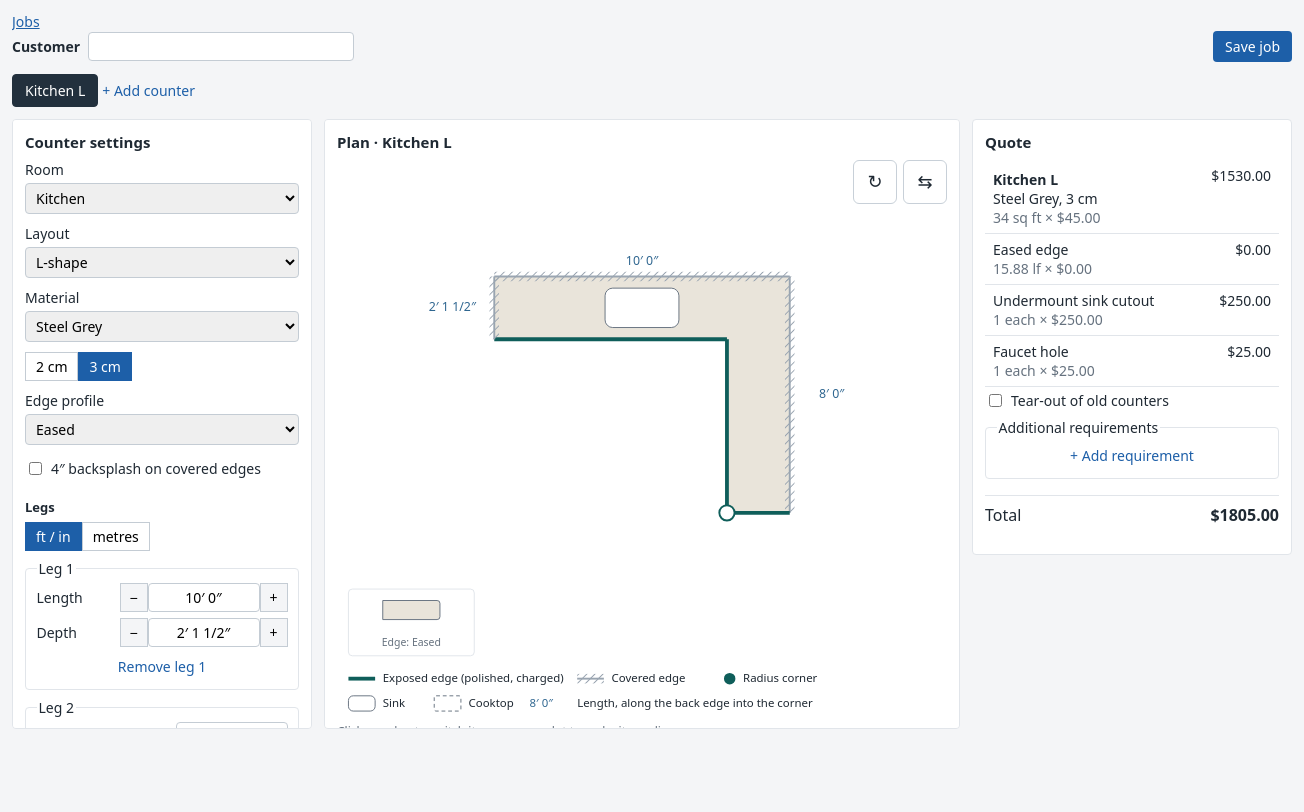
it: editing a counter › changes the material, thickness, edge profile and backsplash
This screenshot has width=1304, height=812.
Expected: the tab "Kitchen L" is shown, [12, 74, 98, 107]
Click the button "2 cm" at (52, 366), box [25, 352, 78, 381]
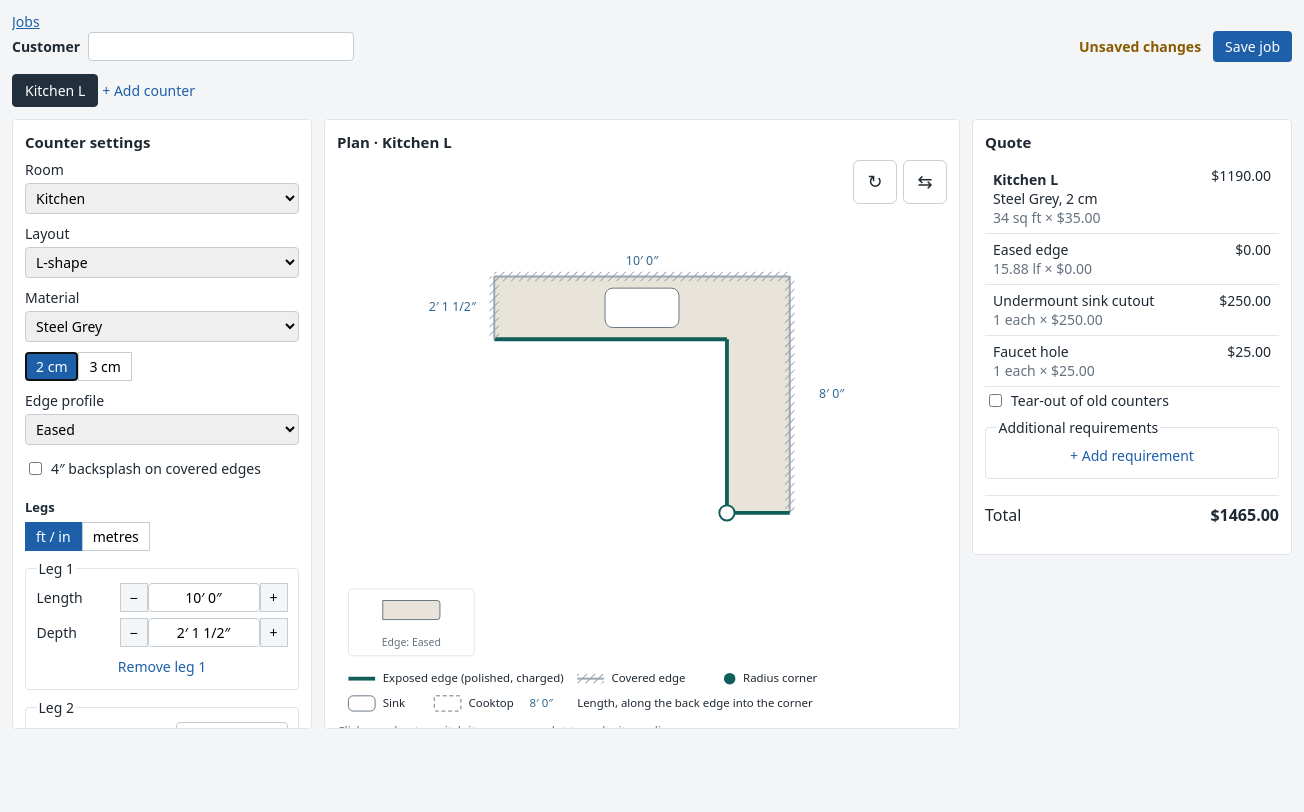
Result: the text "Steel Grey, 2 cm" is shown at [993, 189, 1098, 208]
Select "Black Pearl" in the dropdown labelled "Material" at (162, 326), box [25, 311, 299, 342]
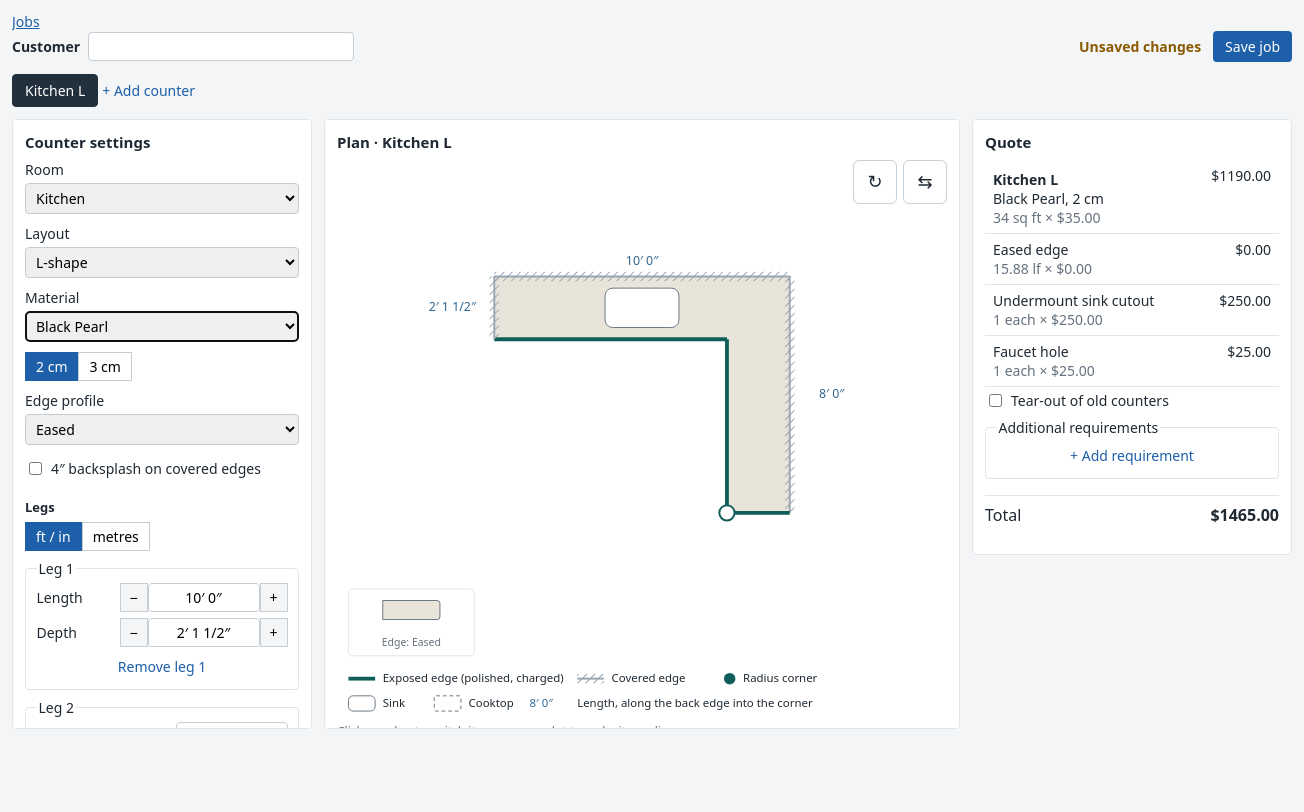
Expected: the text "Ogee" is not shown
Result: the text "Black Pearl, 2 cm" is shown at [993, 189, 1104, 208]
Select "Ogee" in the dropdown labelled "Edge profile" at (162, 430), box [25, 414, 299, 445]
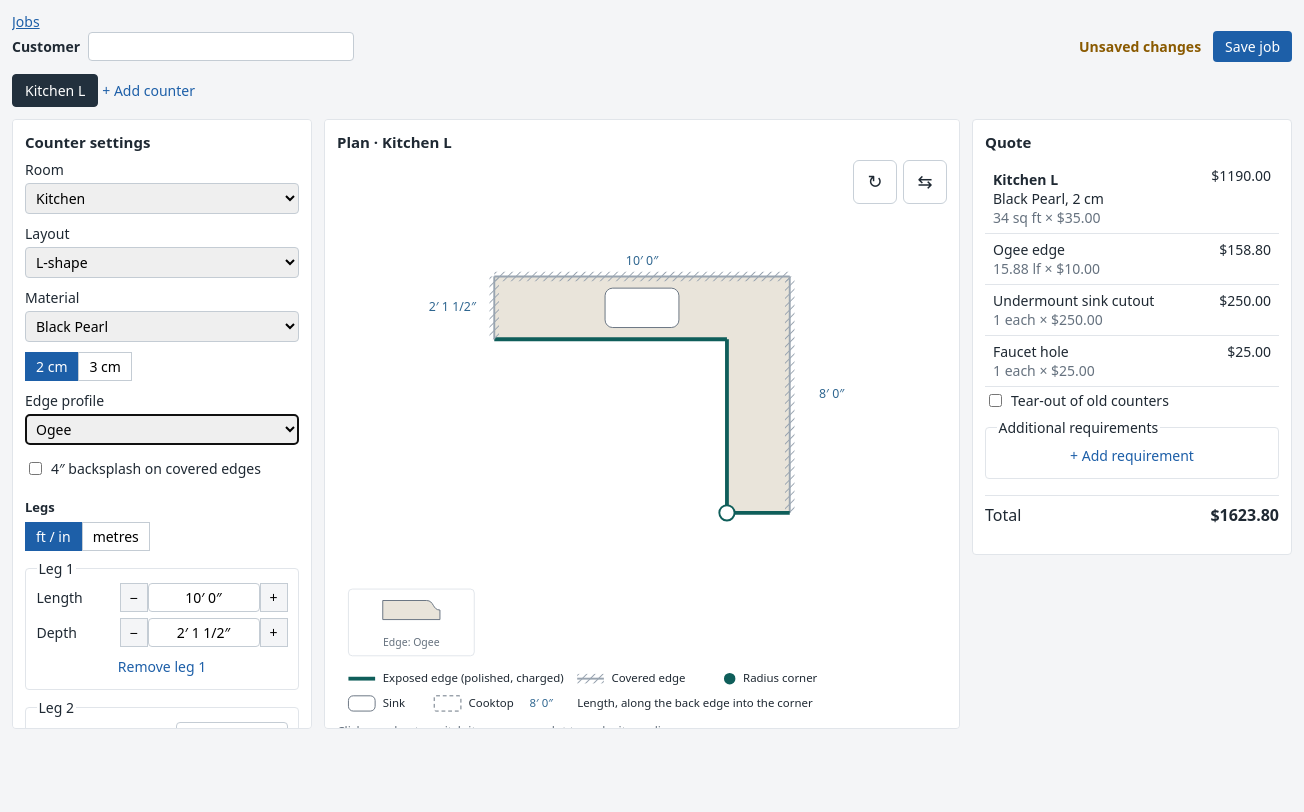
Result: the text "Ogee edge 15.88 lf × $10.00" is shown at [985, 234, 1191, 284]
Click the checkbox labelled "4″ backsplash on covered edges" at (36, 468), box [29, 462, 42, 475]
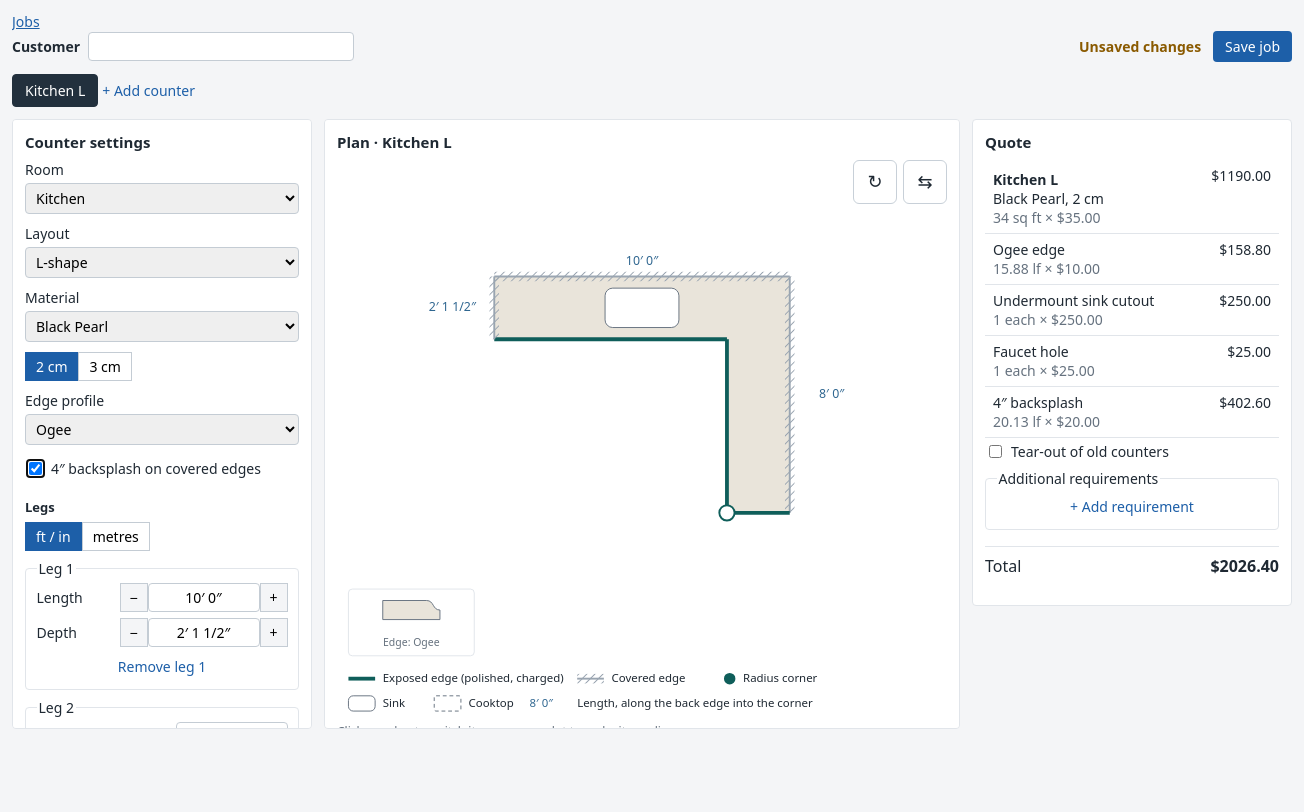
Result: the text "4″ backsplash 20.13 lf × $20.00" is shown at [985, 386, 1191, 438]
